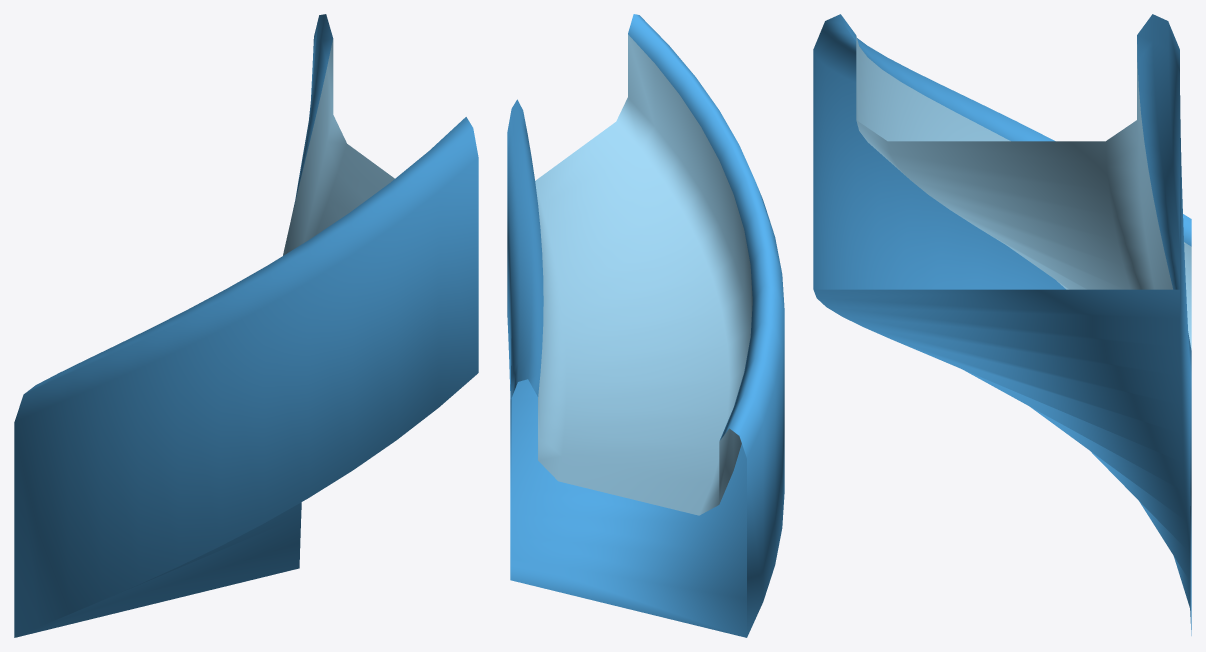
File: slide_turn_a.gltf
3 renders of one model, left to right at view 1: azimuth 30°, elevation 25°; view 2: azimuth 150°, elevation 25°; view 3: azimuth 270°, elevation 25°, orthographic. The views are drawn at different scales.
Parts seen in each view (by area): view 1: slide_turn_a; view 2: slide_turn_a; view 3: slide_turn_a.
Part boxes in pixels (<box>): slide_turn_a: <box>14,14,478,637</box>; slide_turn_a: <box>507,14,784,637</box>; slide_turn_a: <box>813,14,1191,635</box>.
Size of the model in its own units: 0.97 by 1.78 by 0.97.
